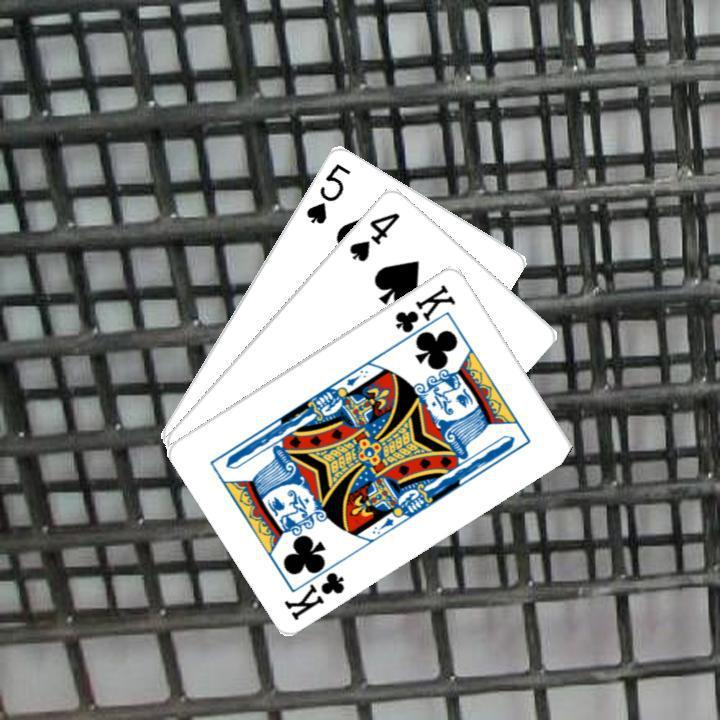4: (345, 207, 402, 263)
5: (301, 158, 352, 226)
K: (280, 554, 347, 622), (391, 279, 458, 346)
